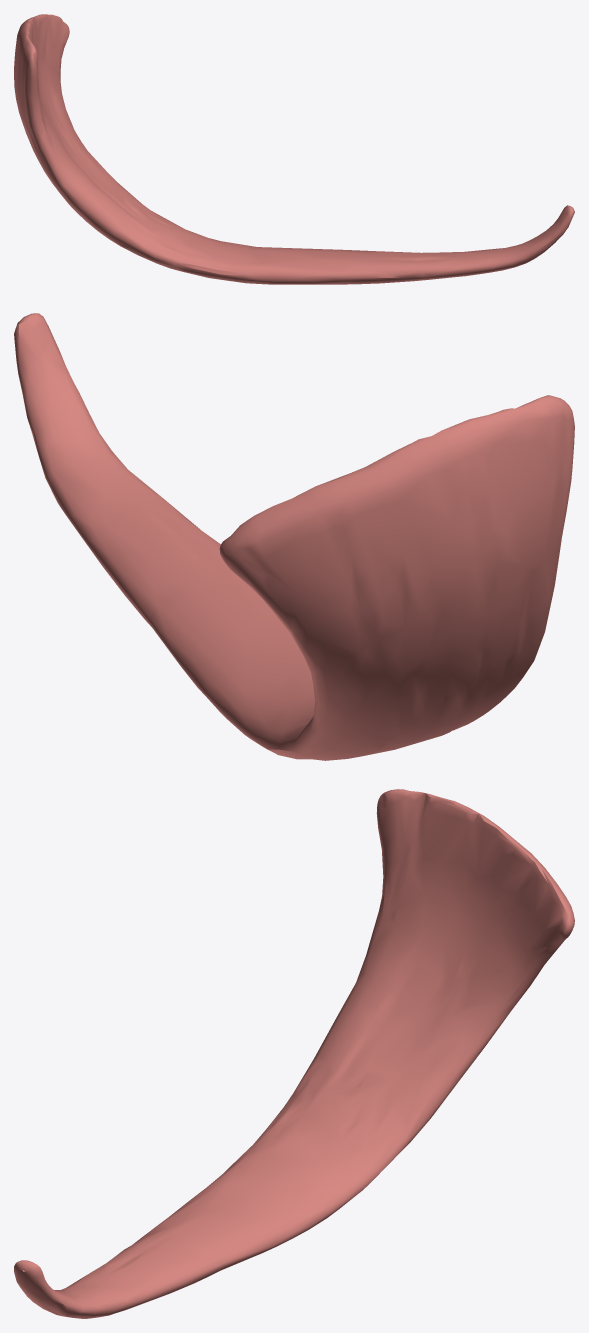
The model's file is fma49050_fj1345.glb.
The picture shows the model from 3 angles, top to bottom: view 1: azimuth 30°, elevation 25°; view 2: azimuth 150°, elevation 25°; view 3: azimuth 270°, elevation 25°; orthographic projection. The views are drawn at different scales.
Visible parts, largest first — view 1: FMA49050_FJ1345; view 2: FMA49050_FJ1345; view 3: FMA49050_FJ1345.
Boxes of the visible parts, box(x1,y1,x2,y2) form: FMA49050_FJ1345: box(14, 14, 574, 284); FMA49050_FJ1345: box(14, 313, 574, 760); FMA49050_FJ1345: box(14, 789, 574, 1318).
Bounding box in the file's own units: 0.0294 × 0.0164 × 0.0258.
